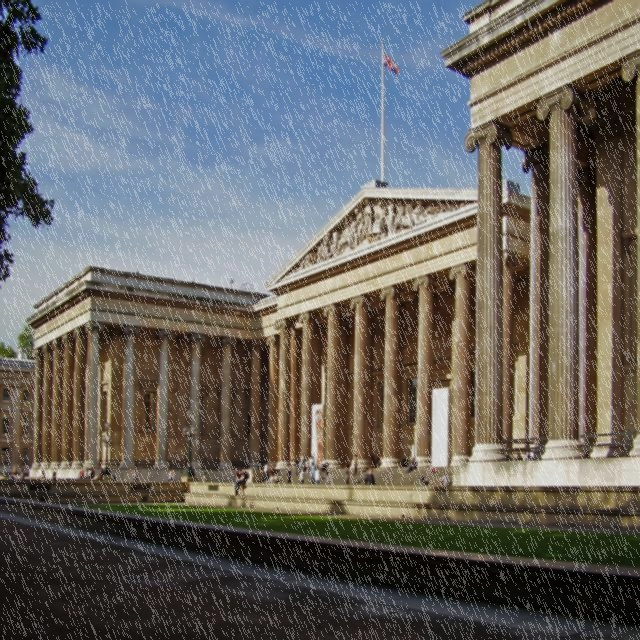pessoa: (282, 195, 473, 280), (233, 468, 247, 497), (364, 468, 376, 486), (404, 458, 416, 473), (92, 467, 104, 480), (234, 468, 241, 490), (438, 472, 448, 486), (298, 461, 306, 478), (344, 464, 350, 486), (376, 453, 384, 469), (299, 468, 307, 484), (294, 456, 300, 476), (324, 470, 331, 486), (303, 460, 310, 476), (314, 466, 320, 484), (286, 466, 292, 484), (298, 458, 304, 476), (319, 457, 326, 472), (427, 464, 435, 476), (20, 466, 26, 482), (38, 470, 46, 482), (308, 455, 314, 471), (354, 453, 358, 476), (376, 454, 382, 468), (264, 462, 268, 483), (271, 472, 278, 484), (340, 457, 348, 467), (132, 469, 138, 482), (310, 462, 315, 477), (89, 467, 95, 479), (171, 468, 176, 482), (371, 454, 376, 468), (300, 452, 304, 469), (12, 466, 18, 477), (268, 473, 274, 484), (105, 467, 112, 476), (78, 466, 83, 478), (80, 470, 86, 480), (202, 472, 208, 482), (52, 471, 57, 482), (168, 469, 172, 482), (312, 452, 316, 465), (422, 478, 428, 486), (8, 472, 14, 480), (310, 466, 313, 480), (268, 466, 272, 474), (88, 468, 91, 476), (84, 474, 88, 478), (77, 472, 79, 480)
